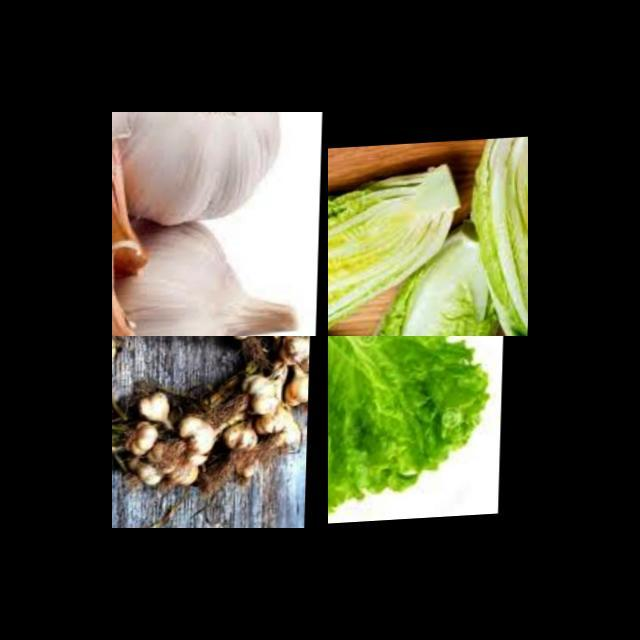garlic: (112, 367, 310, 511), (112, 112, 302, 235), (112, 209, 296, 336), (112, 123, 149, 281), (229, 336, 314, 396), (112, 231, 139, 336)
